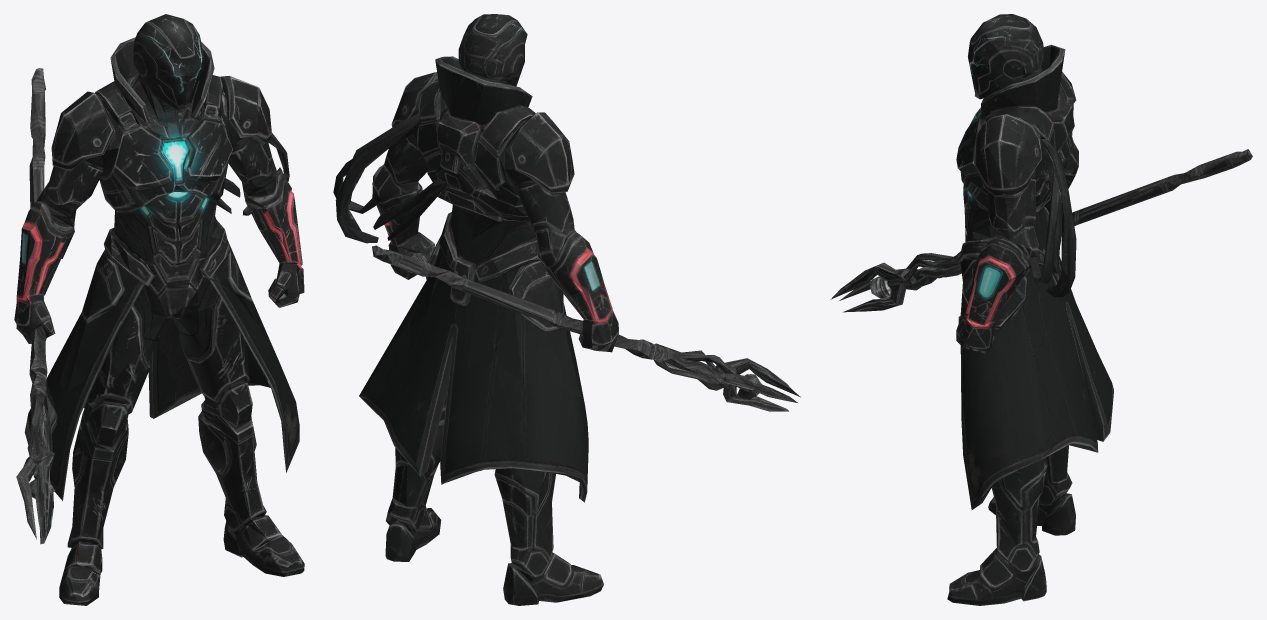
Rendered from enemy-scifi-armored-warrior.glb.
3 views of the same model, side by side, from view 1: azimuth 30°, elevation 25°; view 2: azimuth 150°, elevation 25°; view 3: azimuth 270°, elevation 25° (orthographic). The views are drawn at different scales.
Parts seen in each view (by area): view 1: output_unwrapped; view 2: output_unwrapped; view 3: output_unwrapped.
Part boxes in pixels (x1,y1,x2,y2): output_unwrapped: (14, 14, 304, 605); output_unwrapped: (333, 14, 800, 605); output_unwrapped: (830, 14, 1252, 605).
Bounding box in the file's own units: 1.28 × 1.9 × 1.35.
Materials: 1 (1 with a texture image).
